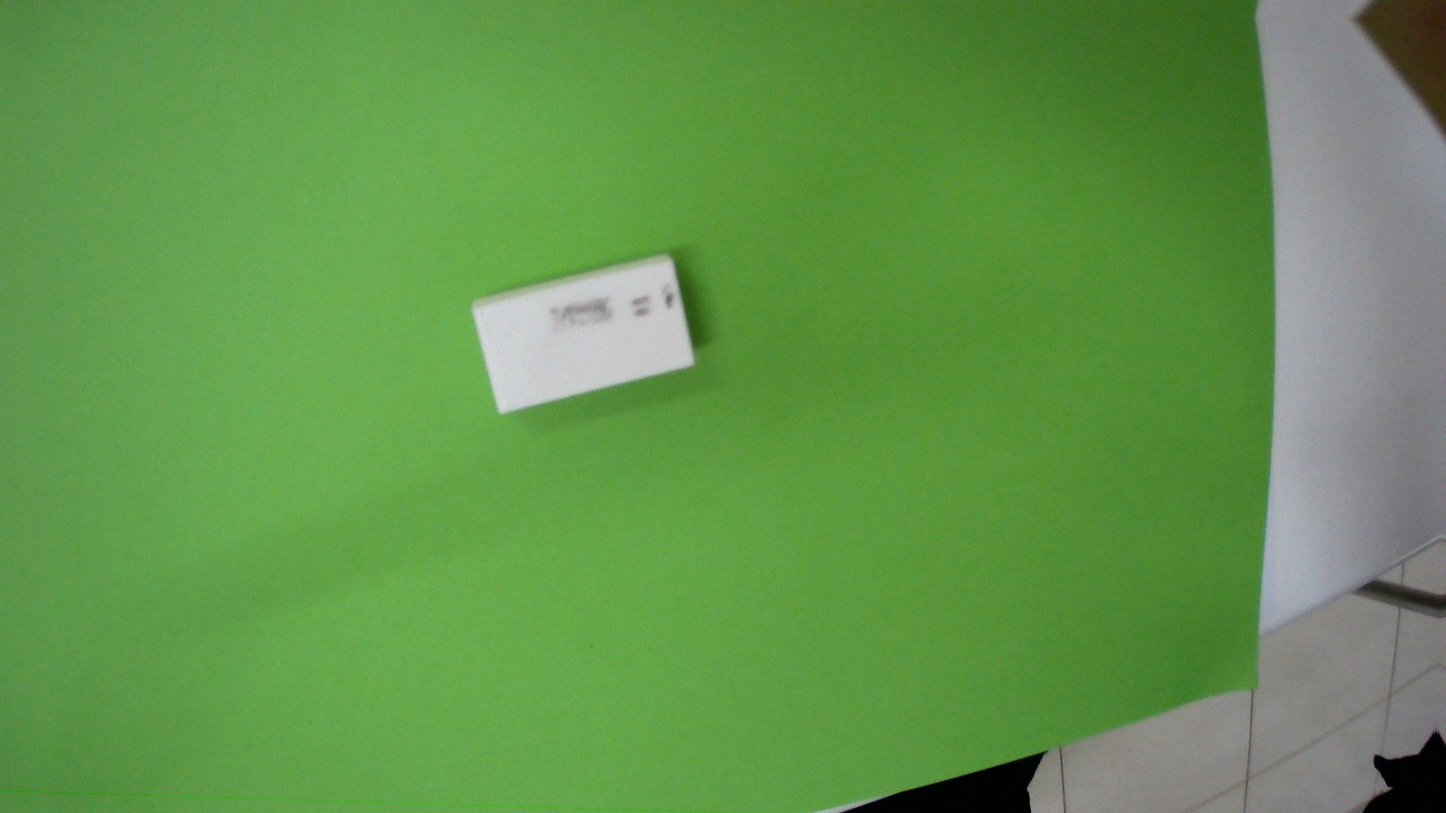gom: (468, 244, 711, 420)
